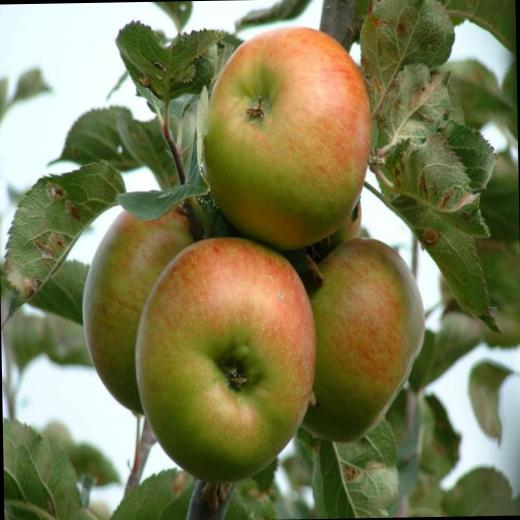Apple: (132, 234, 320, 484), (200, 24, 376, 250), (295, 235, 430, 445), (80, 192, 198, 413), (318, 192, 366, 258)
